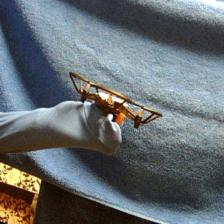drone: (68, 69, 163, 132)
